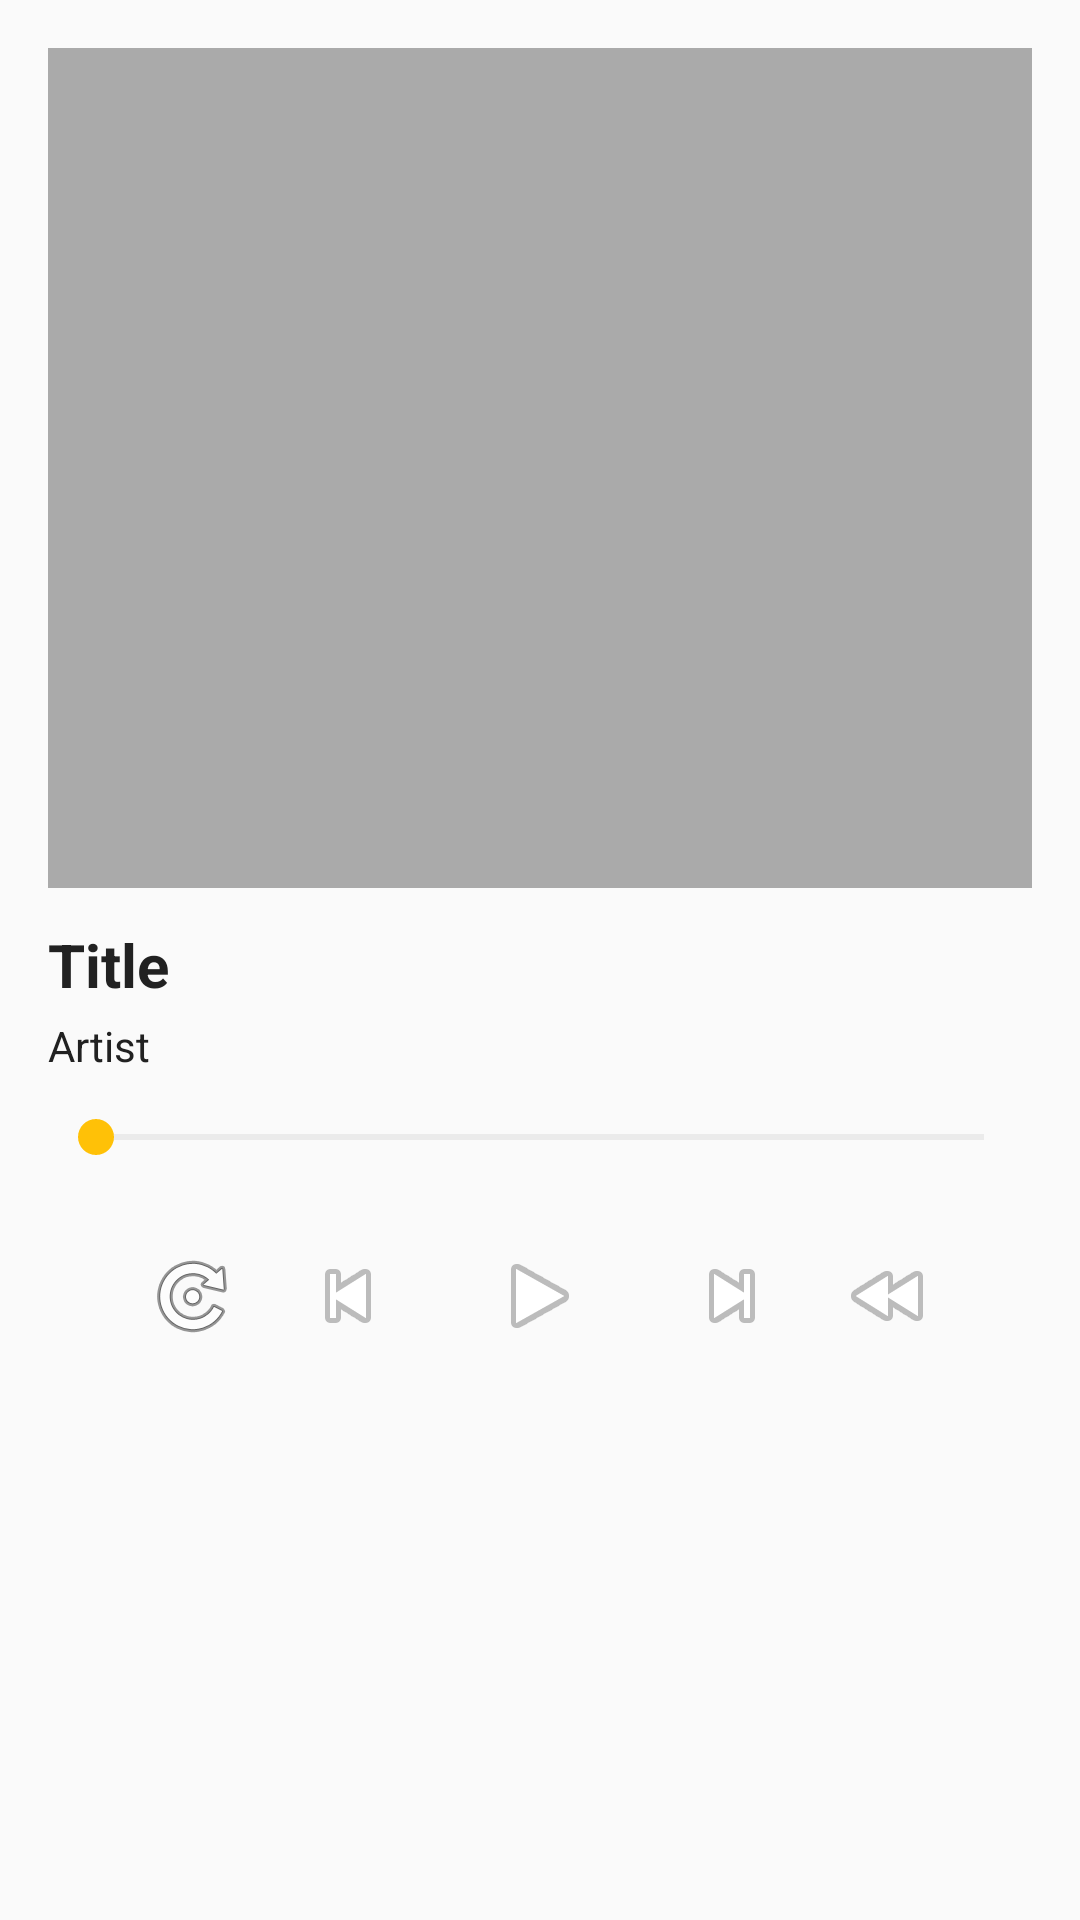

Screen size 1080*1920. Icon name, then its center in pixels as (x=x, y=y):
Next: (x=732, y=1296)
Play: (x=540, y=1296)
Previous: (x=348, y=1296)
